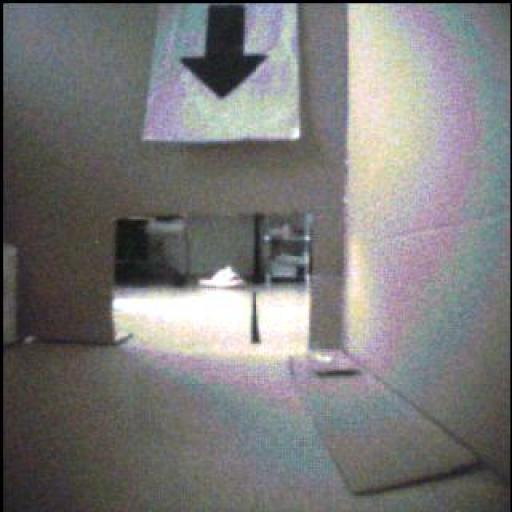arrow: (182, 6, 267, 99)
